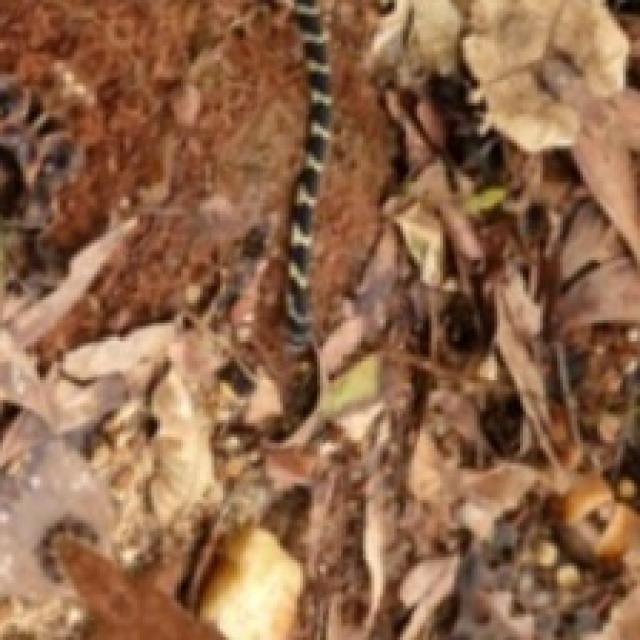king cobra: (285, 0, 331, 347)
